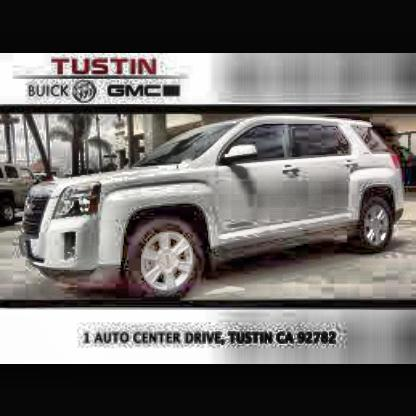GMC Terrain SUV 2012: (23, 115, 405, 299)
